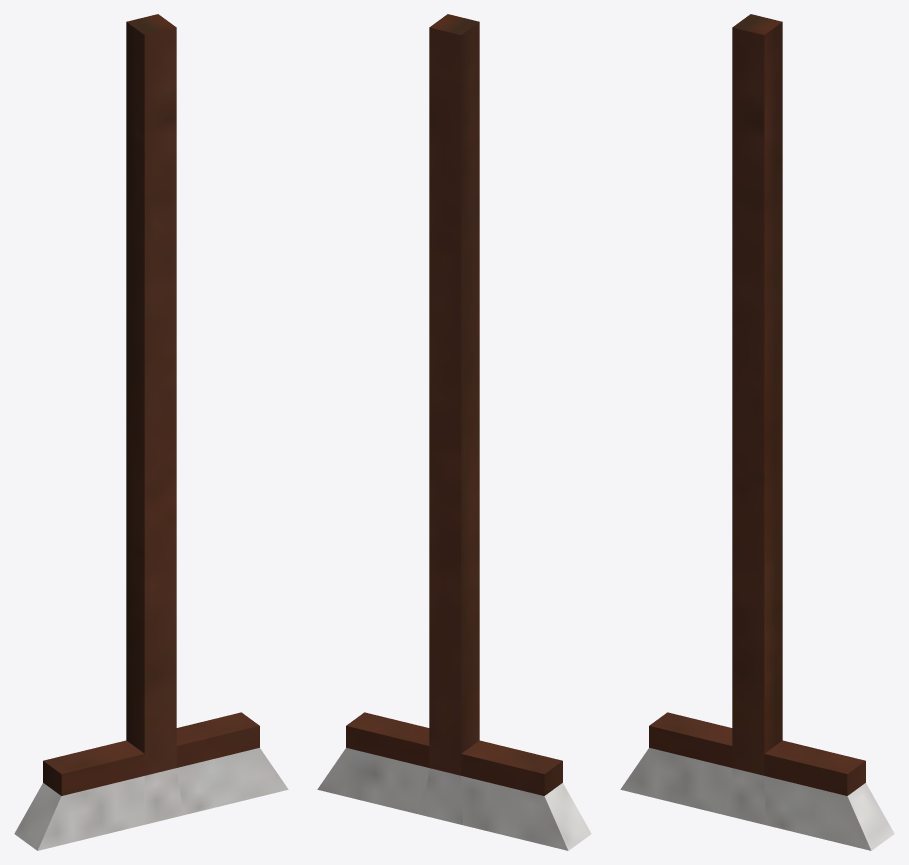
The model's file is broom.fbx.
The picture shows the model from 3 angles, left to right: view 1: azimuth 30°, elevation 25°; view 2: azimuth 150°, elevation 25°; view 3: azimuth 330°, elevation 25°; orthographic projection.
Parts seen in each view (by area): view 1: Cube.026; view 2: Cube.026; view 3: Cube.026.
Part boxes in pixels (bbox=[...]): Cube.026: bbox=[14, 14, 288, 850]; Cube.026: bbox=[317, 14, 591, 850]; Cube.026: bbox=[620, 14, 894, 850].
Size of the model in its own units: 67.33 by 202 by 10.81.
